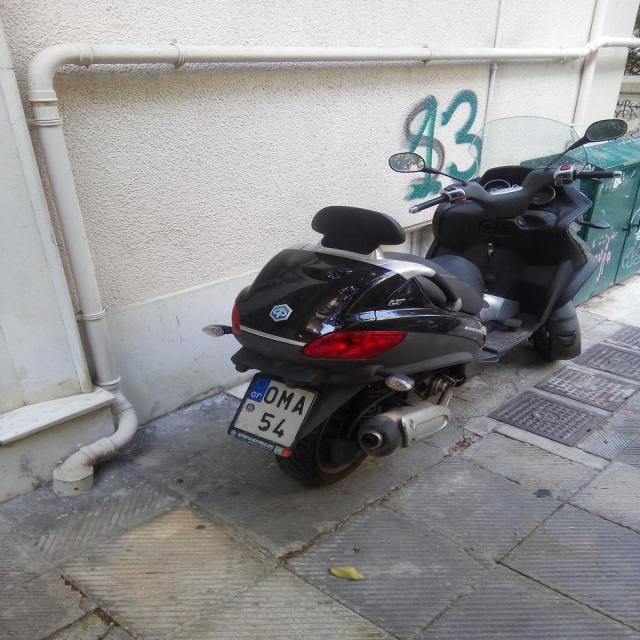nonspitting: (406, 89, 482, 200)
